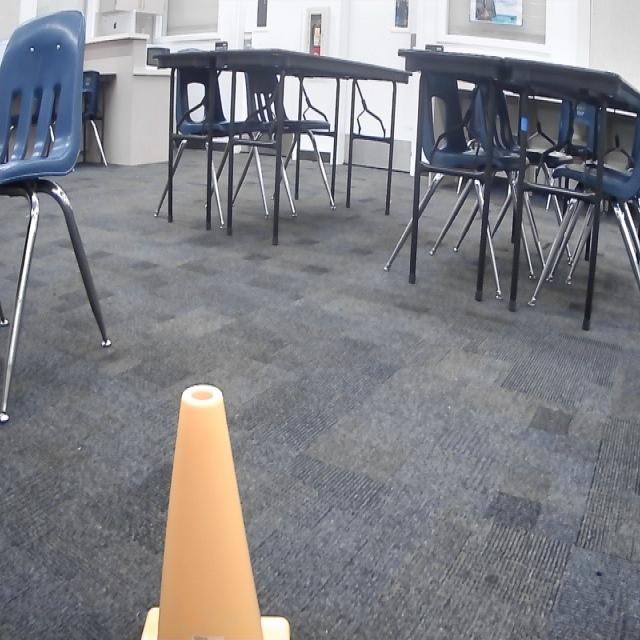cone: (140, 383, 289, 640)
